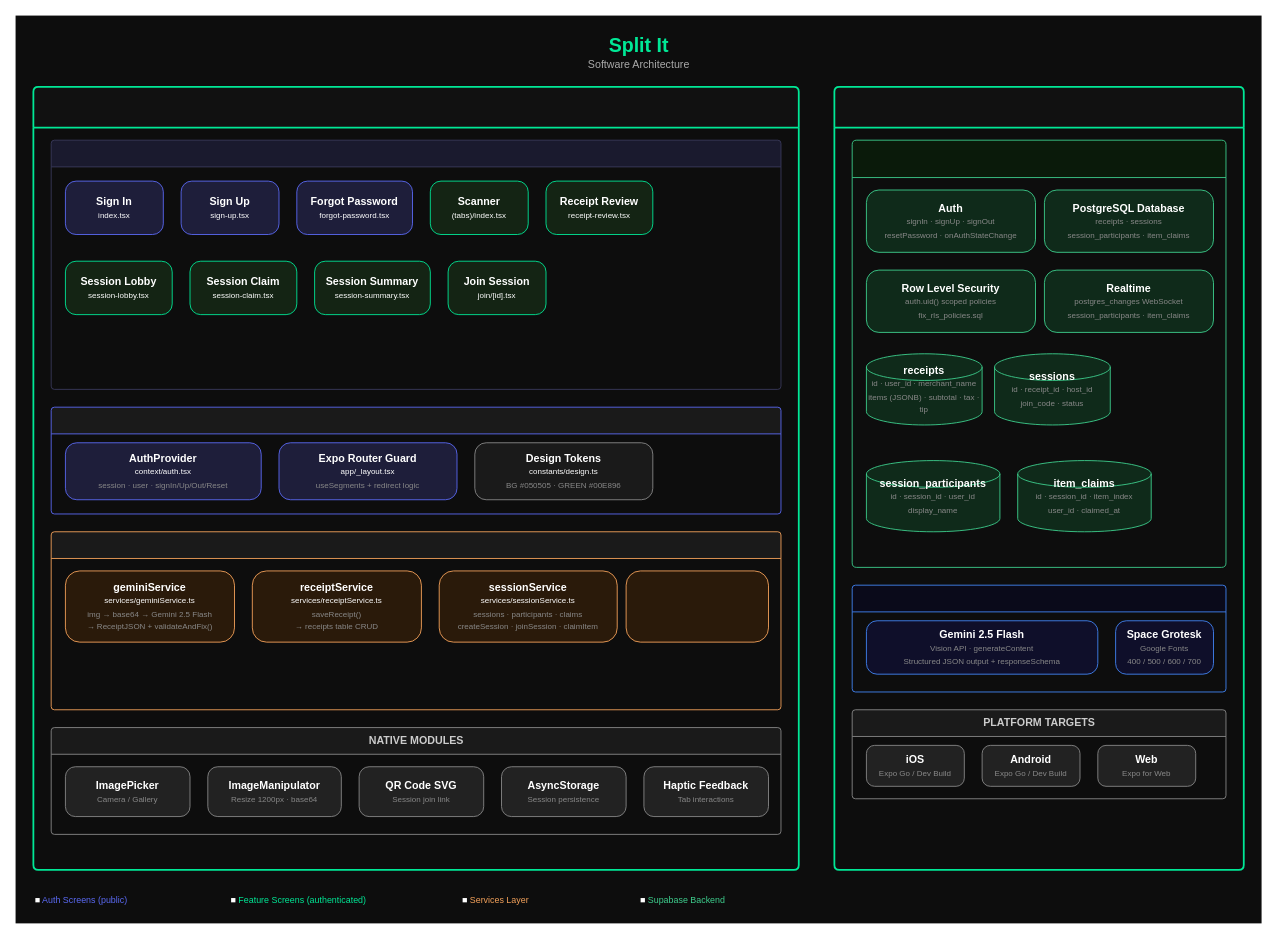
Image size: 1276x938. Some labels were removed from this diagram. Here are the shapes that lost their labels. From the top down, the box of each, then its label:
(50, 139, 781, 389): SCREENS
(851, 139, 1226, 567): SUPABASE BaaS Platform
(50, 406, 781, 514): STATE & CONTEXT
(32, 85, 799, 870): MOBILE CLIENT React Native + Expo Router
(833, 85, 1244, 870): BACKEND & EXTERNAL APIS
(50, 531, 781, 710): SERVICES LAYER
(625, 570, 769, 642): Supabase Client lib/supabase.ts AsyncStorage (native) localStorage (web)
(851, 584, 1226, 692): GOOGLE AI
